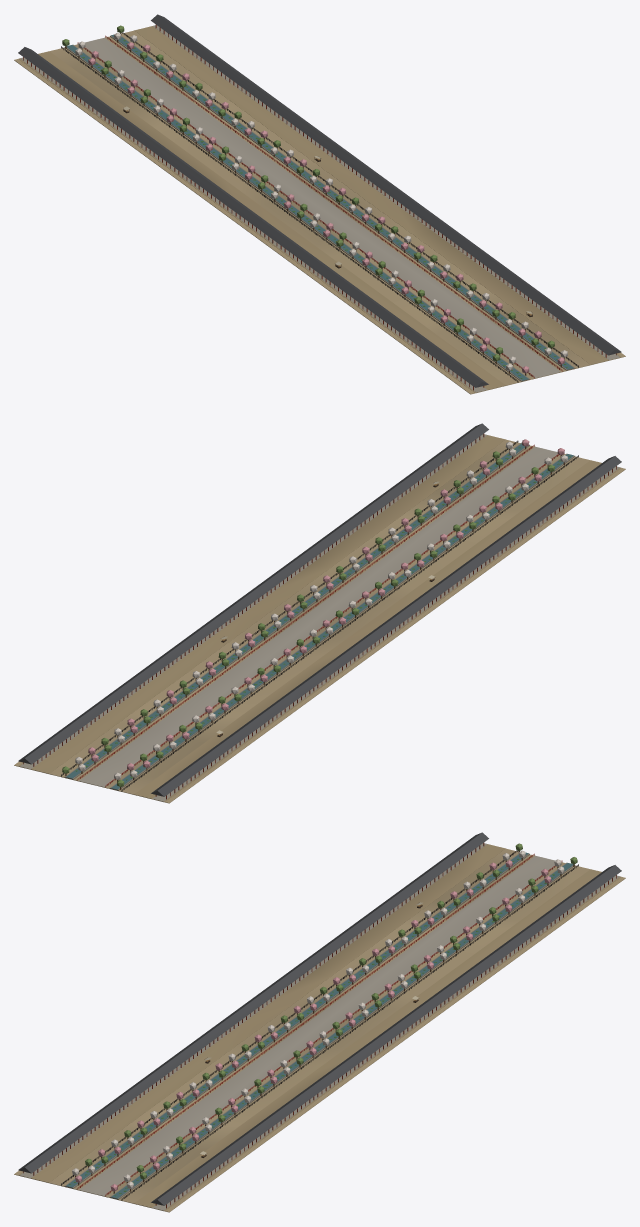
File: imperial-way.glb
3 views of the same model, one above another, from view 1: azimuth 30°, elevation 25°; view 2: azimuth 150°, elevation 25°; view 3: azimuth 330°, elevation 25° (orthographic).
Parts seen in each view (by area): view 1: p0_avenue, p1_walks, p2_planting; view 2: p0_avenue, p1_walks, p2_planting; view 3: p0_avenue, p1_walks, p2_planting.
Part boxes in pixels (<box>): p0_avenue: <box>14,26,625,394</box>; p1_walks: <box>18,14,621,392</box>; p2_planting: <box>62,25,567,378</box>; p0_avenue: <box>14,435,625,803</box>; p1_walks: <box>18,423,621,801</box>; p2_planting: <box>62,439,570,789</box>; p0_avenue: <box>14,844,625,1212</box>; p1_walks: <box>18,832,621,1210</box>; p2_planting: <box>69,843,577,1195</box>.
Bounding box in the file's own units: 110 × 7.08 × 561.
